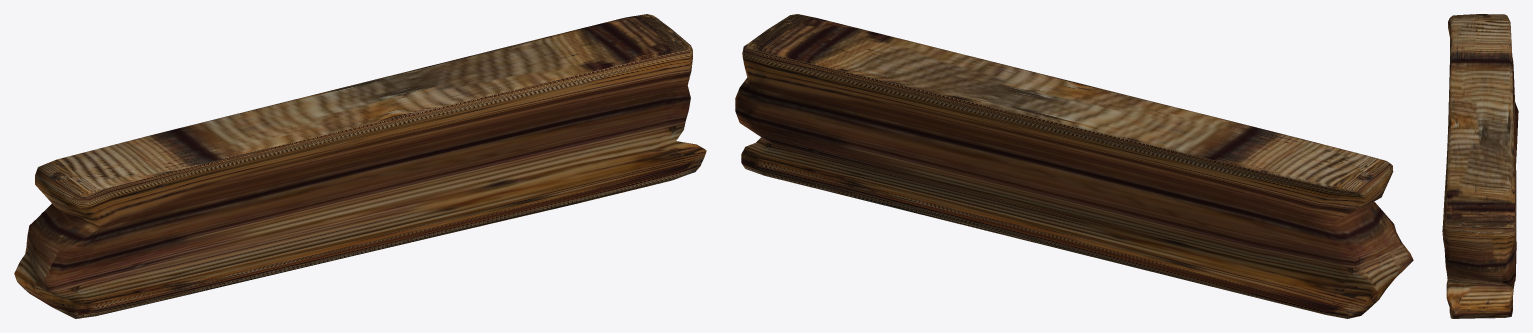
File: Button_1x02.glb
3 renders of one model, left to right at view 1: azimuth 30°, elevation 25°; view 2: azimuth 150°, elevation 25°; view 3: azimuth 270°, elevation 25°, orthographic. The views are drawn at different scales.
Visible parts, largest first — view 1: 1х0.2; view 2: 1х0.2; view 3: 1х0.2.
Part boxes in pixels (x1,y1,x2,y2): 1х0.2: (14,14,706,318); 1х0.2: (735,14,1413,318); 1х0.2: (1442,14,1518,318).
Size of the model in its own units: 2.09 by 0.408 by 0.2972.
Materials: 1 (1 with a texture image).
